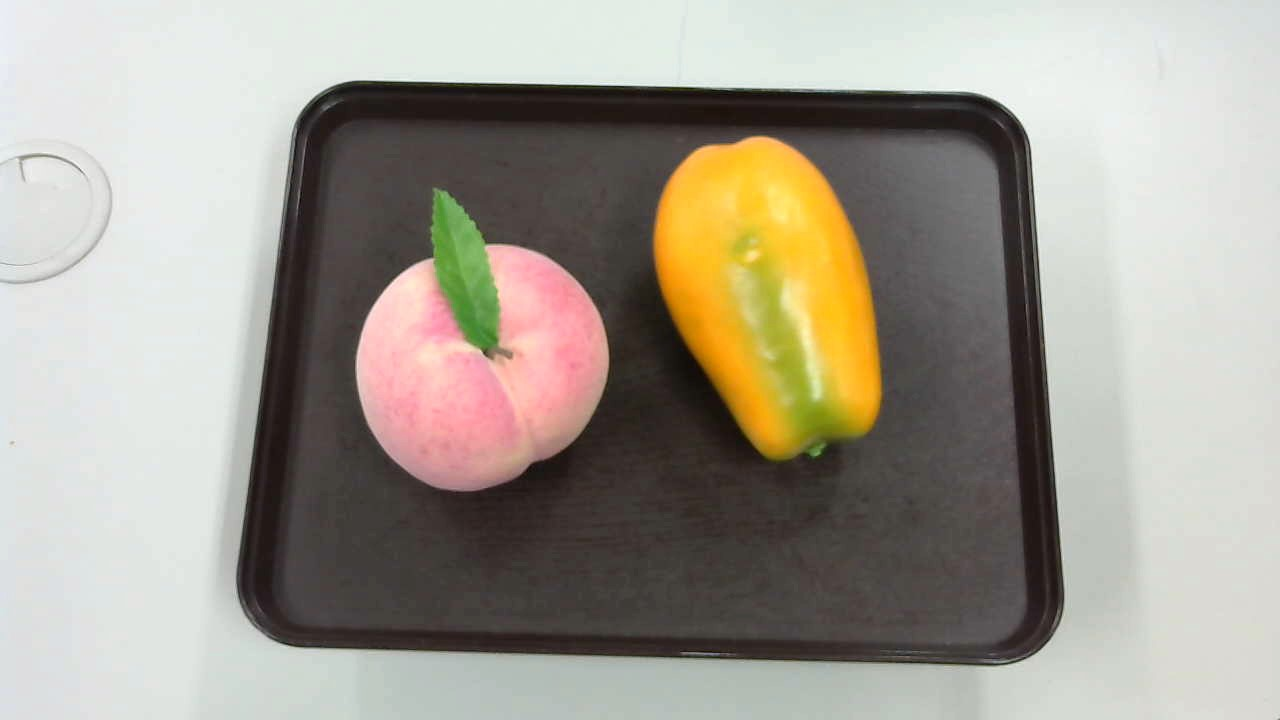papya: (652, 135, 891, 460)
peach: (344, 191, 609, 491)
